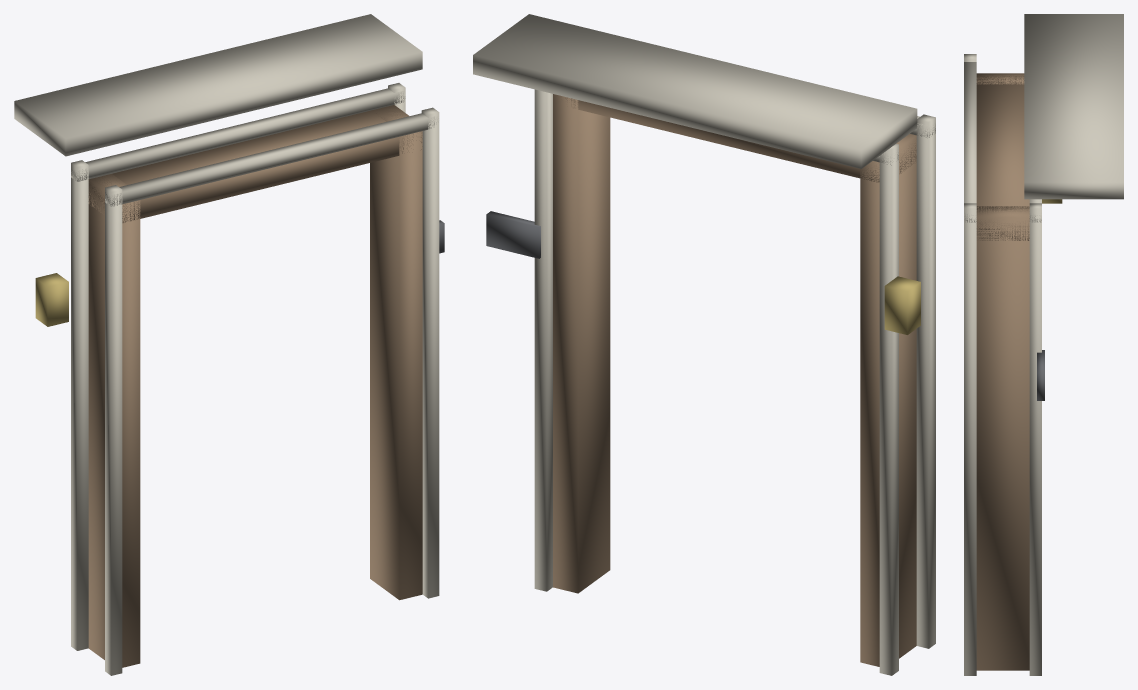
Rendered from doorway_motel_w122_h200_d24.glb.
The picture shows the model from 3 angles, left to right: view 1: azimuth 30°, elevation 25°; view 2: azimuth 150°, elevation 25°; view 3: azimuth 270°, elevation 25°; orthographic projection. The views are drawn at different scales.
Parts seen in each view (by area): view 1: world; view 2: world; view 3: world.
Part boxes in pixels (x1,y1,x2,y2): world: (14, 14, 444, 675); world: (473, 14, 935, 675); world: (964, 14, 1123, 675).
Bounding box in the file's own units: 1.86 × 2.33 × 0.6748.
